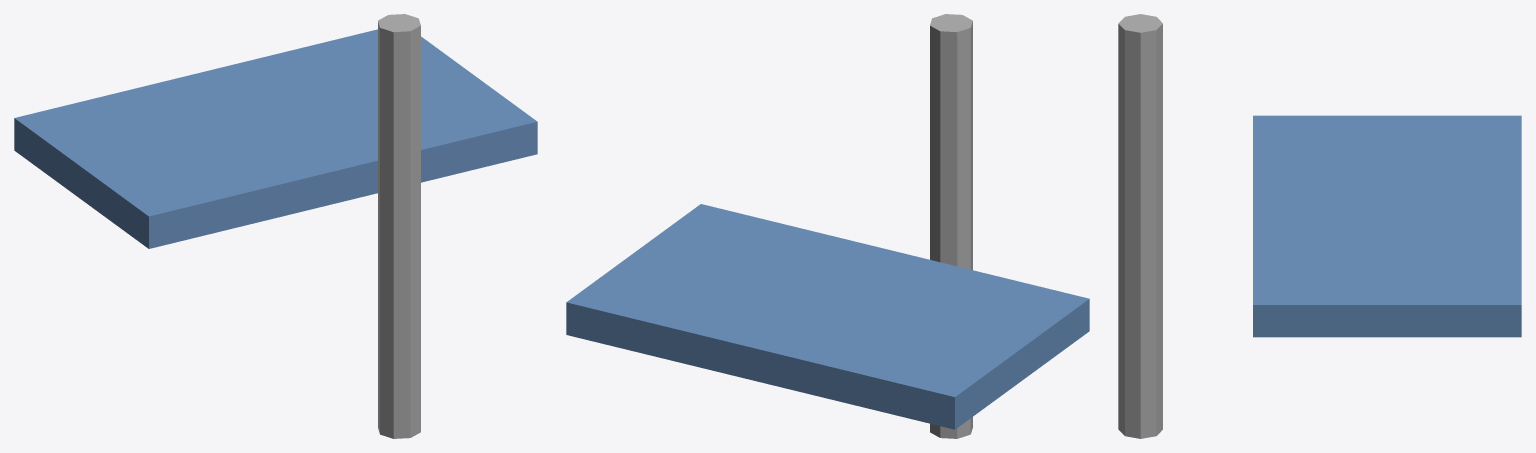
Rendered from destination_plaque.glb.
3 renders of one model, left to right at view 1: azimuth 30°, elevation 25°; view 2: azimuth 150°, elevation 25°; view 3: azimuth 270°, elevation 25°, orthographic.
Parts seen in each view (by area): view 1: plaque, post; view 2: plaque, post; view 3: plaque, post.
Part boxes in pixels (x1,y1,x2,y2): plaque: (14,29,537,248); post: (378,14,420,438); plaque: (566,204,1089,429); post: (930,14,972,438); plaque: (1253,115,1521,337); post: (1118,14,1162,438).
Bounding box in the file's own units: 1 × 1 × 0.8996.
